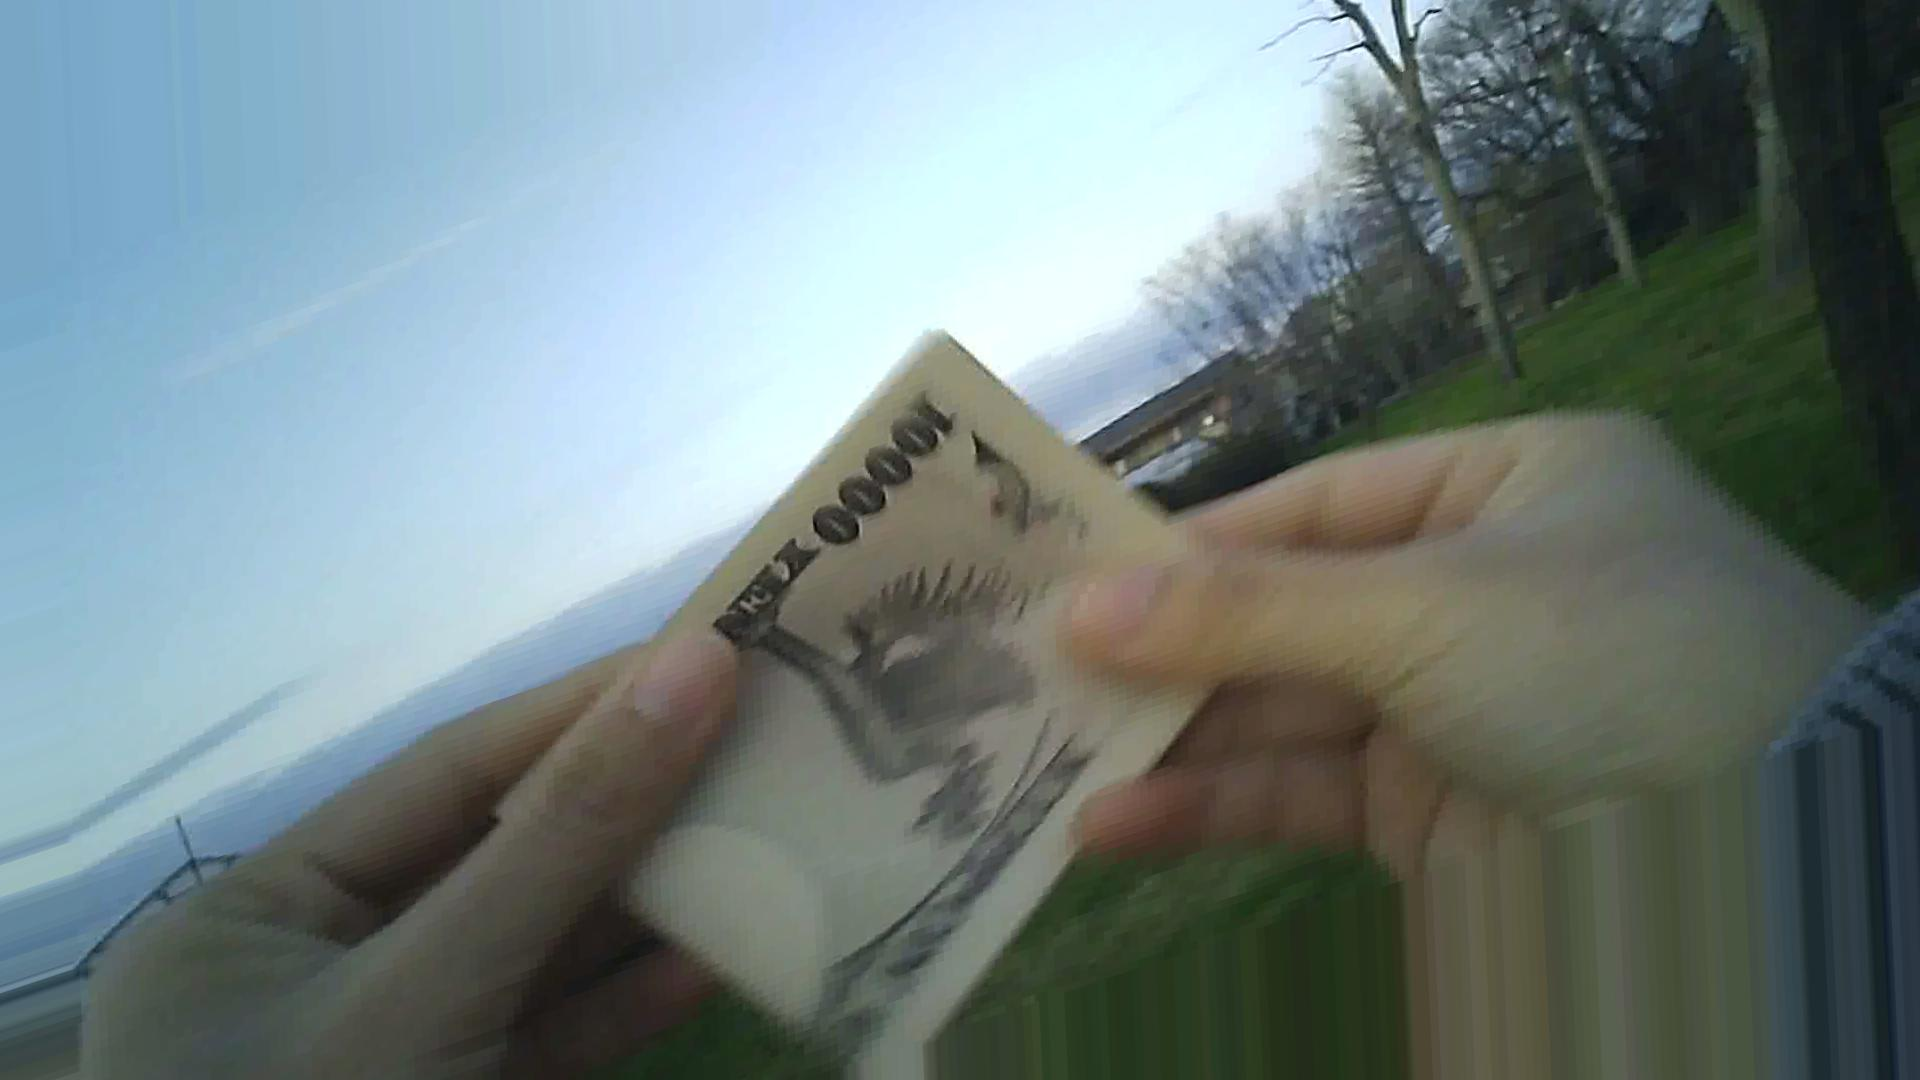10,000 Yen: (520, 280, 1226, 1015)
